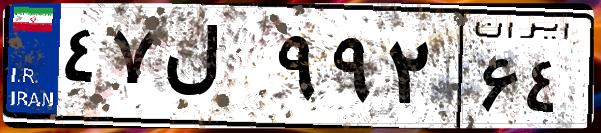2: (385, 28, 445, 110)
4: (57, 26, 110, 100), (525, 38, 570, 115)
6: (475, 38, 525, 113)
7: (110, 28, 158, 98)
9: (270, 28, 330, 110), (330, 28, 385, 110)
ل: (158, 20, 270, 120)
